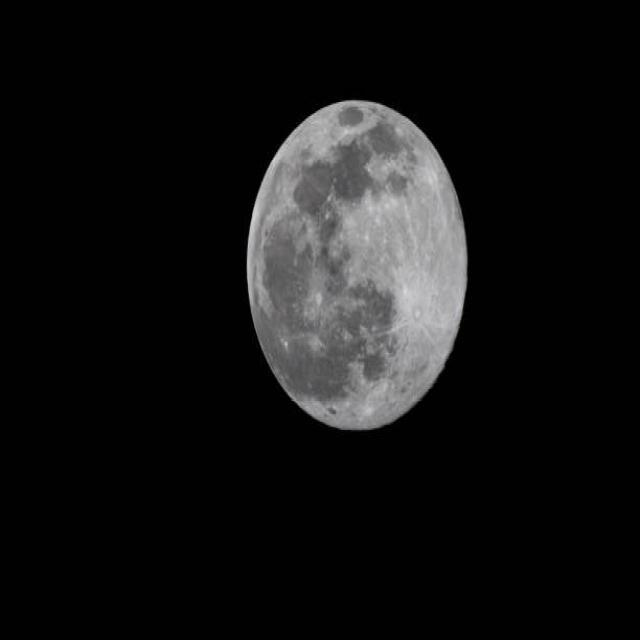moon: (247, 100, 468, 424)
